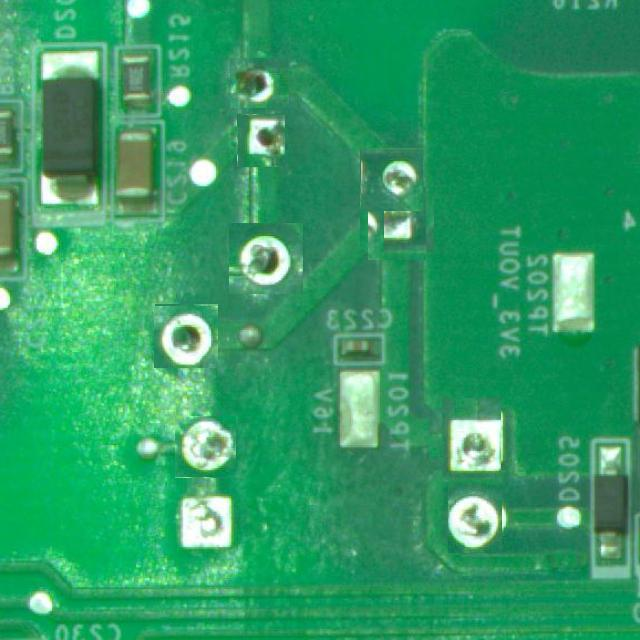lack_of_part: (164, 494, 245, 565), (230, 222, 303, 295), (436, 404, 508, 476), (364, 190, 430, 256), (442, 484, 507, 549), (155, 305, 218, 368), (361, 148, 424, 210), (175, 416, 236, 478), (230, 58, 289, 108), (237, 114, 285, 167)
